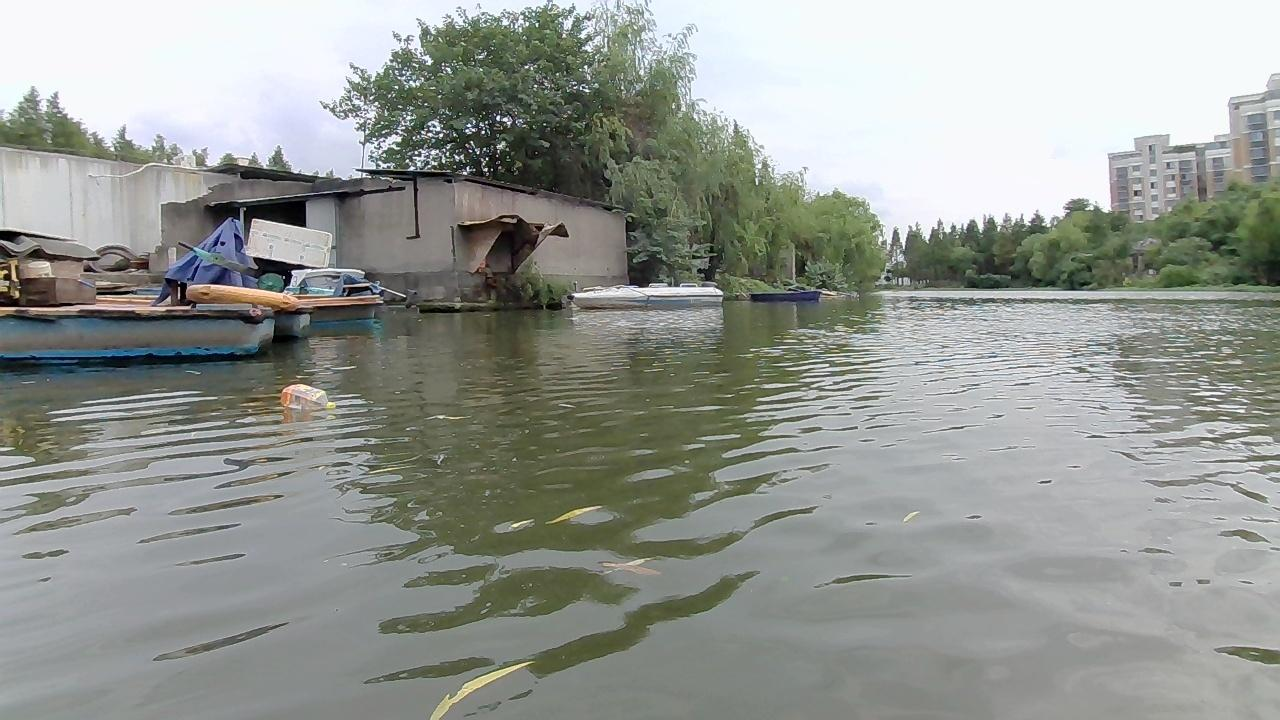bottle: (277, 377, 335, 412)
